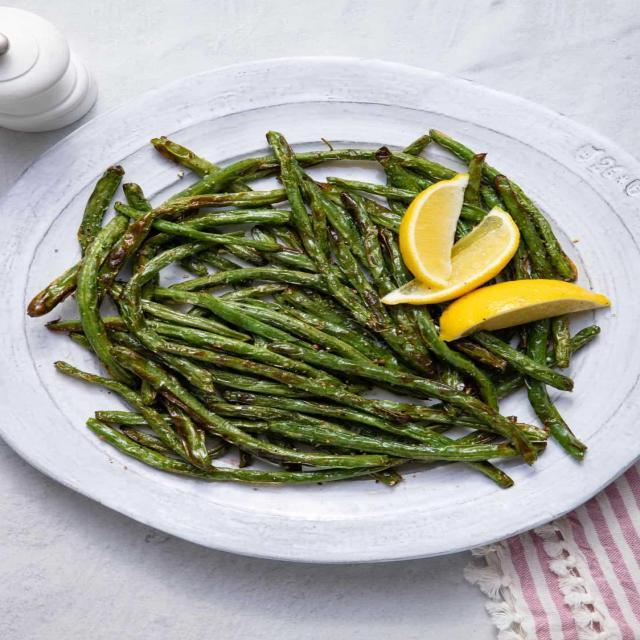Beans: (0, 111, 612, 501)
